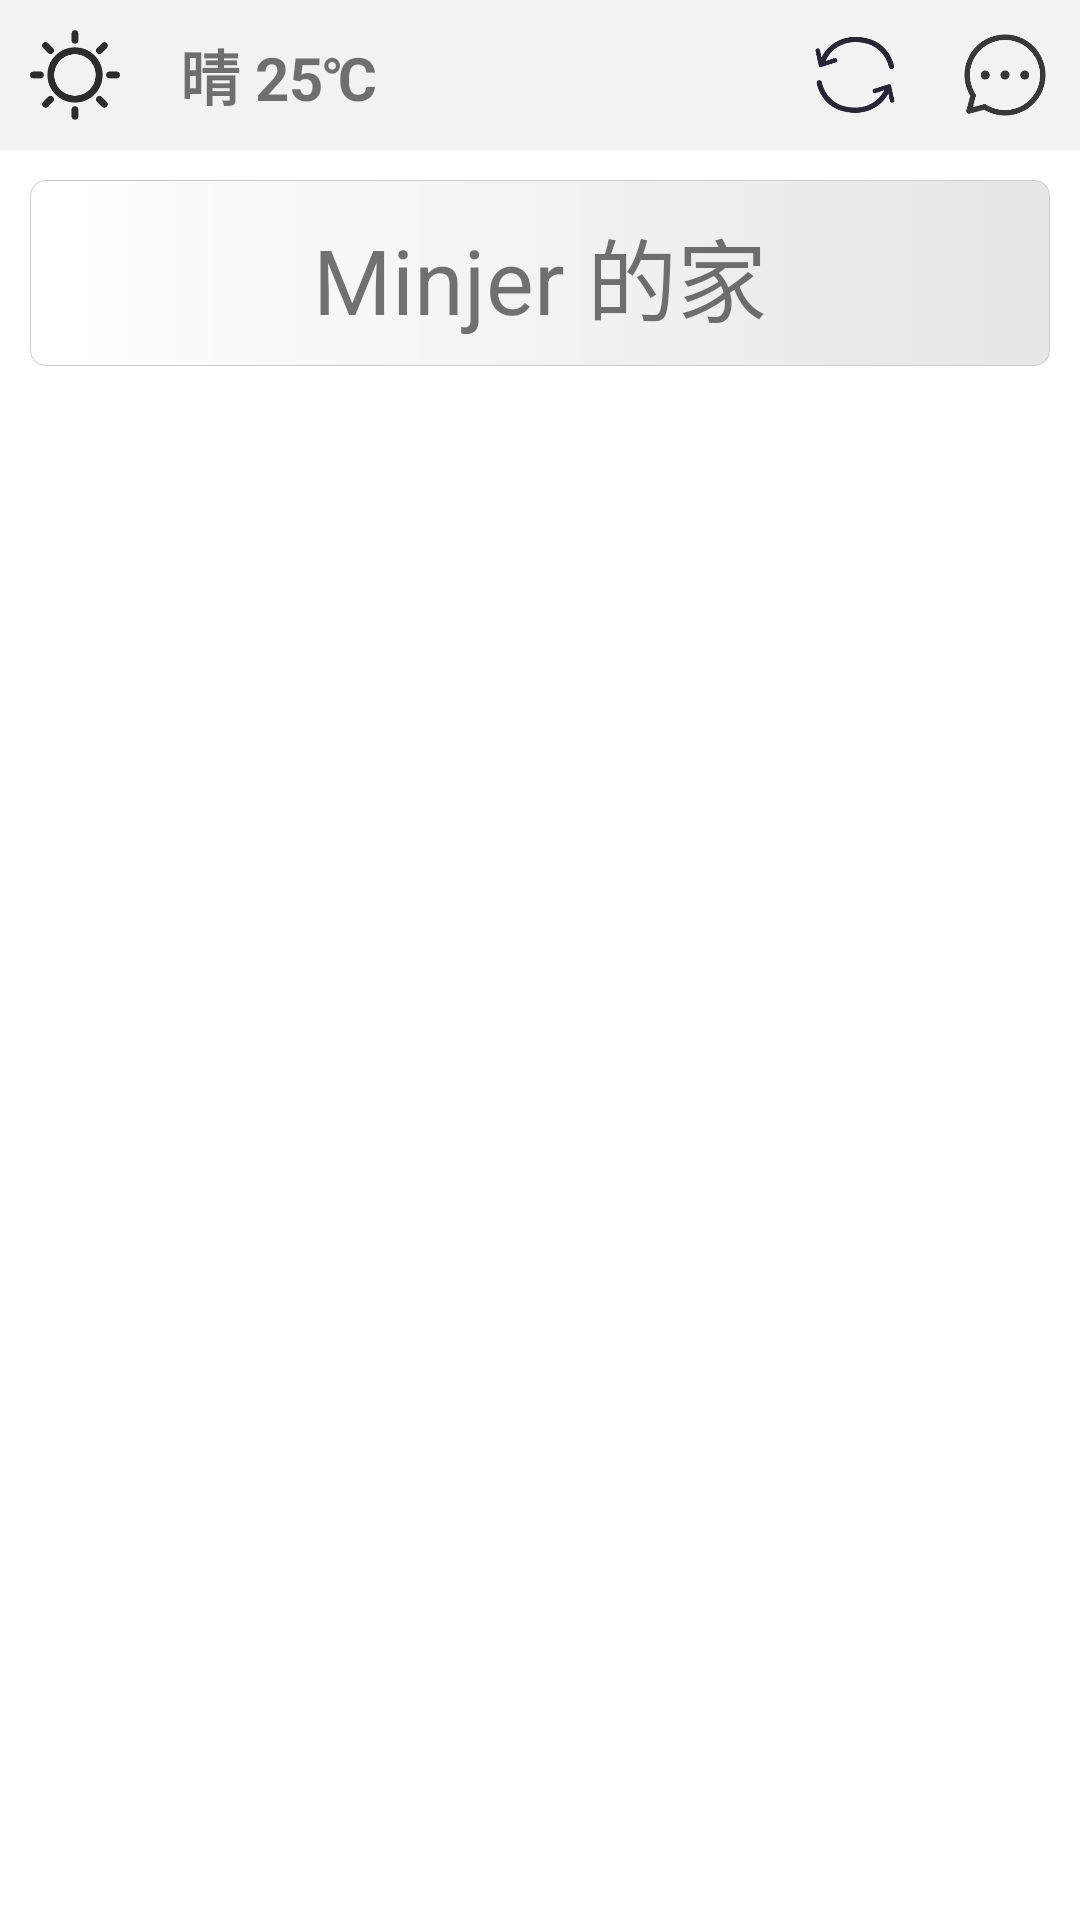

Icons on this 1080×1920 Android screen, each with the point to tap as [x,y]:
chat: [1005,75]
qingtian: [75,75]
refresh: [855,75]
